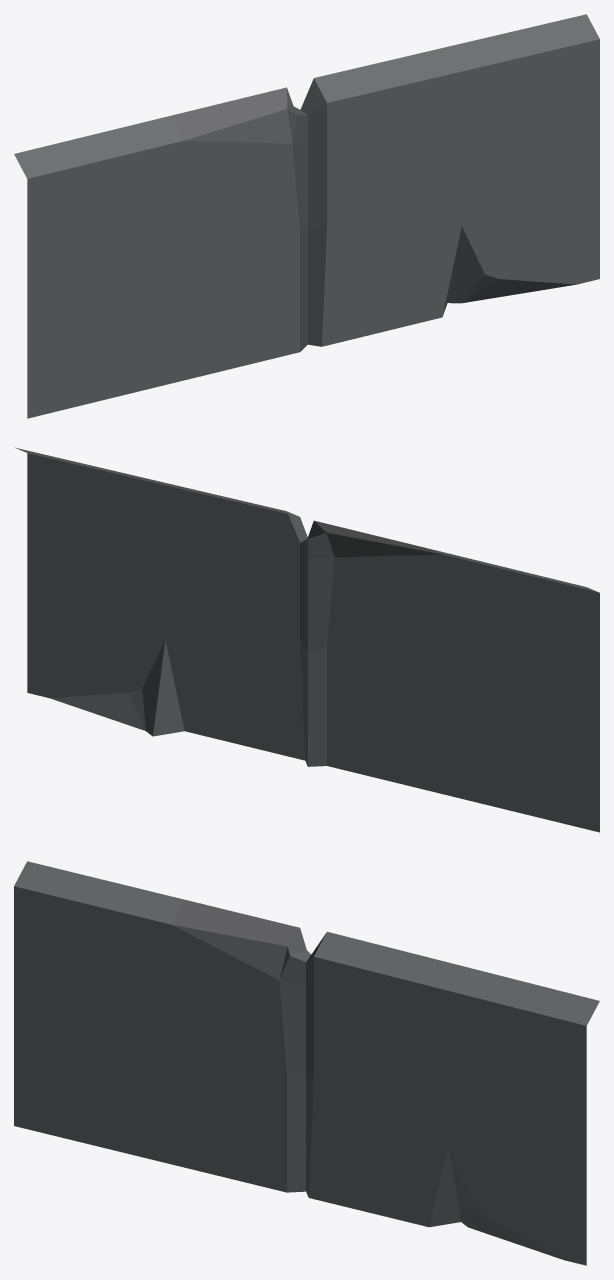
File: SM_Foundation_1m.gltf
3 views of the same model, one above another, from view 1: azimuth 30°, elevation 25°; view 2: azimuth 150°, elevation 25°; view 3: azimuth 330°, elevation 25° (orthographic).
Parts seen in each view (by area): view 1: SM_Foundation_1m; view 2: SM_Foundation_1m; view 3: SM_Foundation_1m.
Part boxes in pixels (x1=…): SM_Foundation_1m: x1=14, y1=14, x2=599, y2=418; SM_Foundation_1m: x1=15, y1=447, x2=599, y2=832; SM_Foundation_1m: x1=14, y1=861, x2=599, y2=1265.
Size of the model in its own units: 1 by 0.4302 by 0.0405.
Materials: 1 (1 with a texture image).
